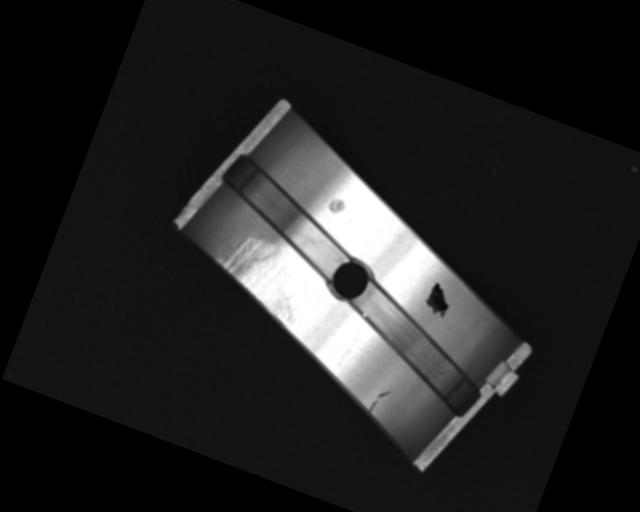blot: (420, 280, 456, 321)
bruise: (326, 195, 347, 217)
gap: (330, 275, 505, 417), (201, 149, 372, 284)
hole: (324, 253, 378, 310)
nick: (335, 333, 359, 369), (366, 386, 391, 419)
scratch: (199, 224, 319, 330)
